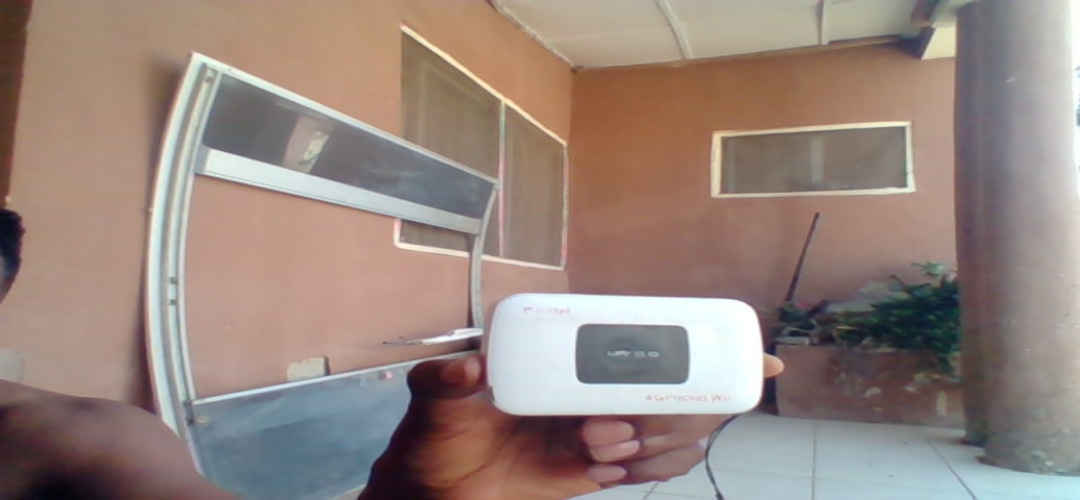mifi: (490, 293, 762, 418)
